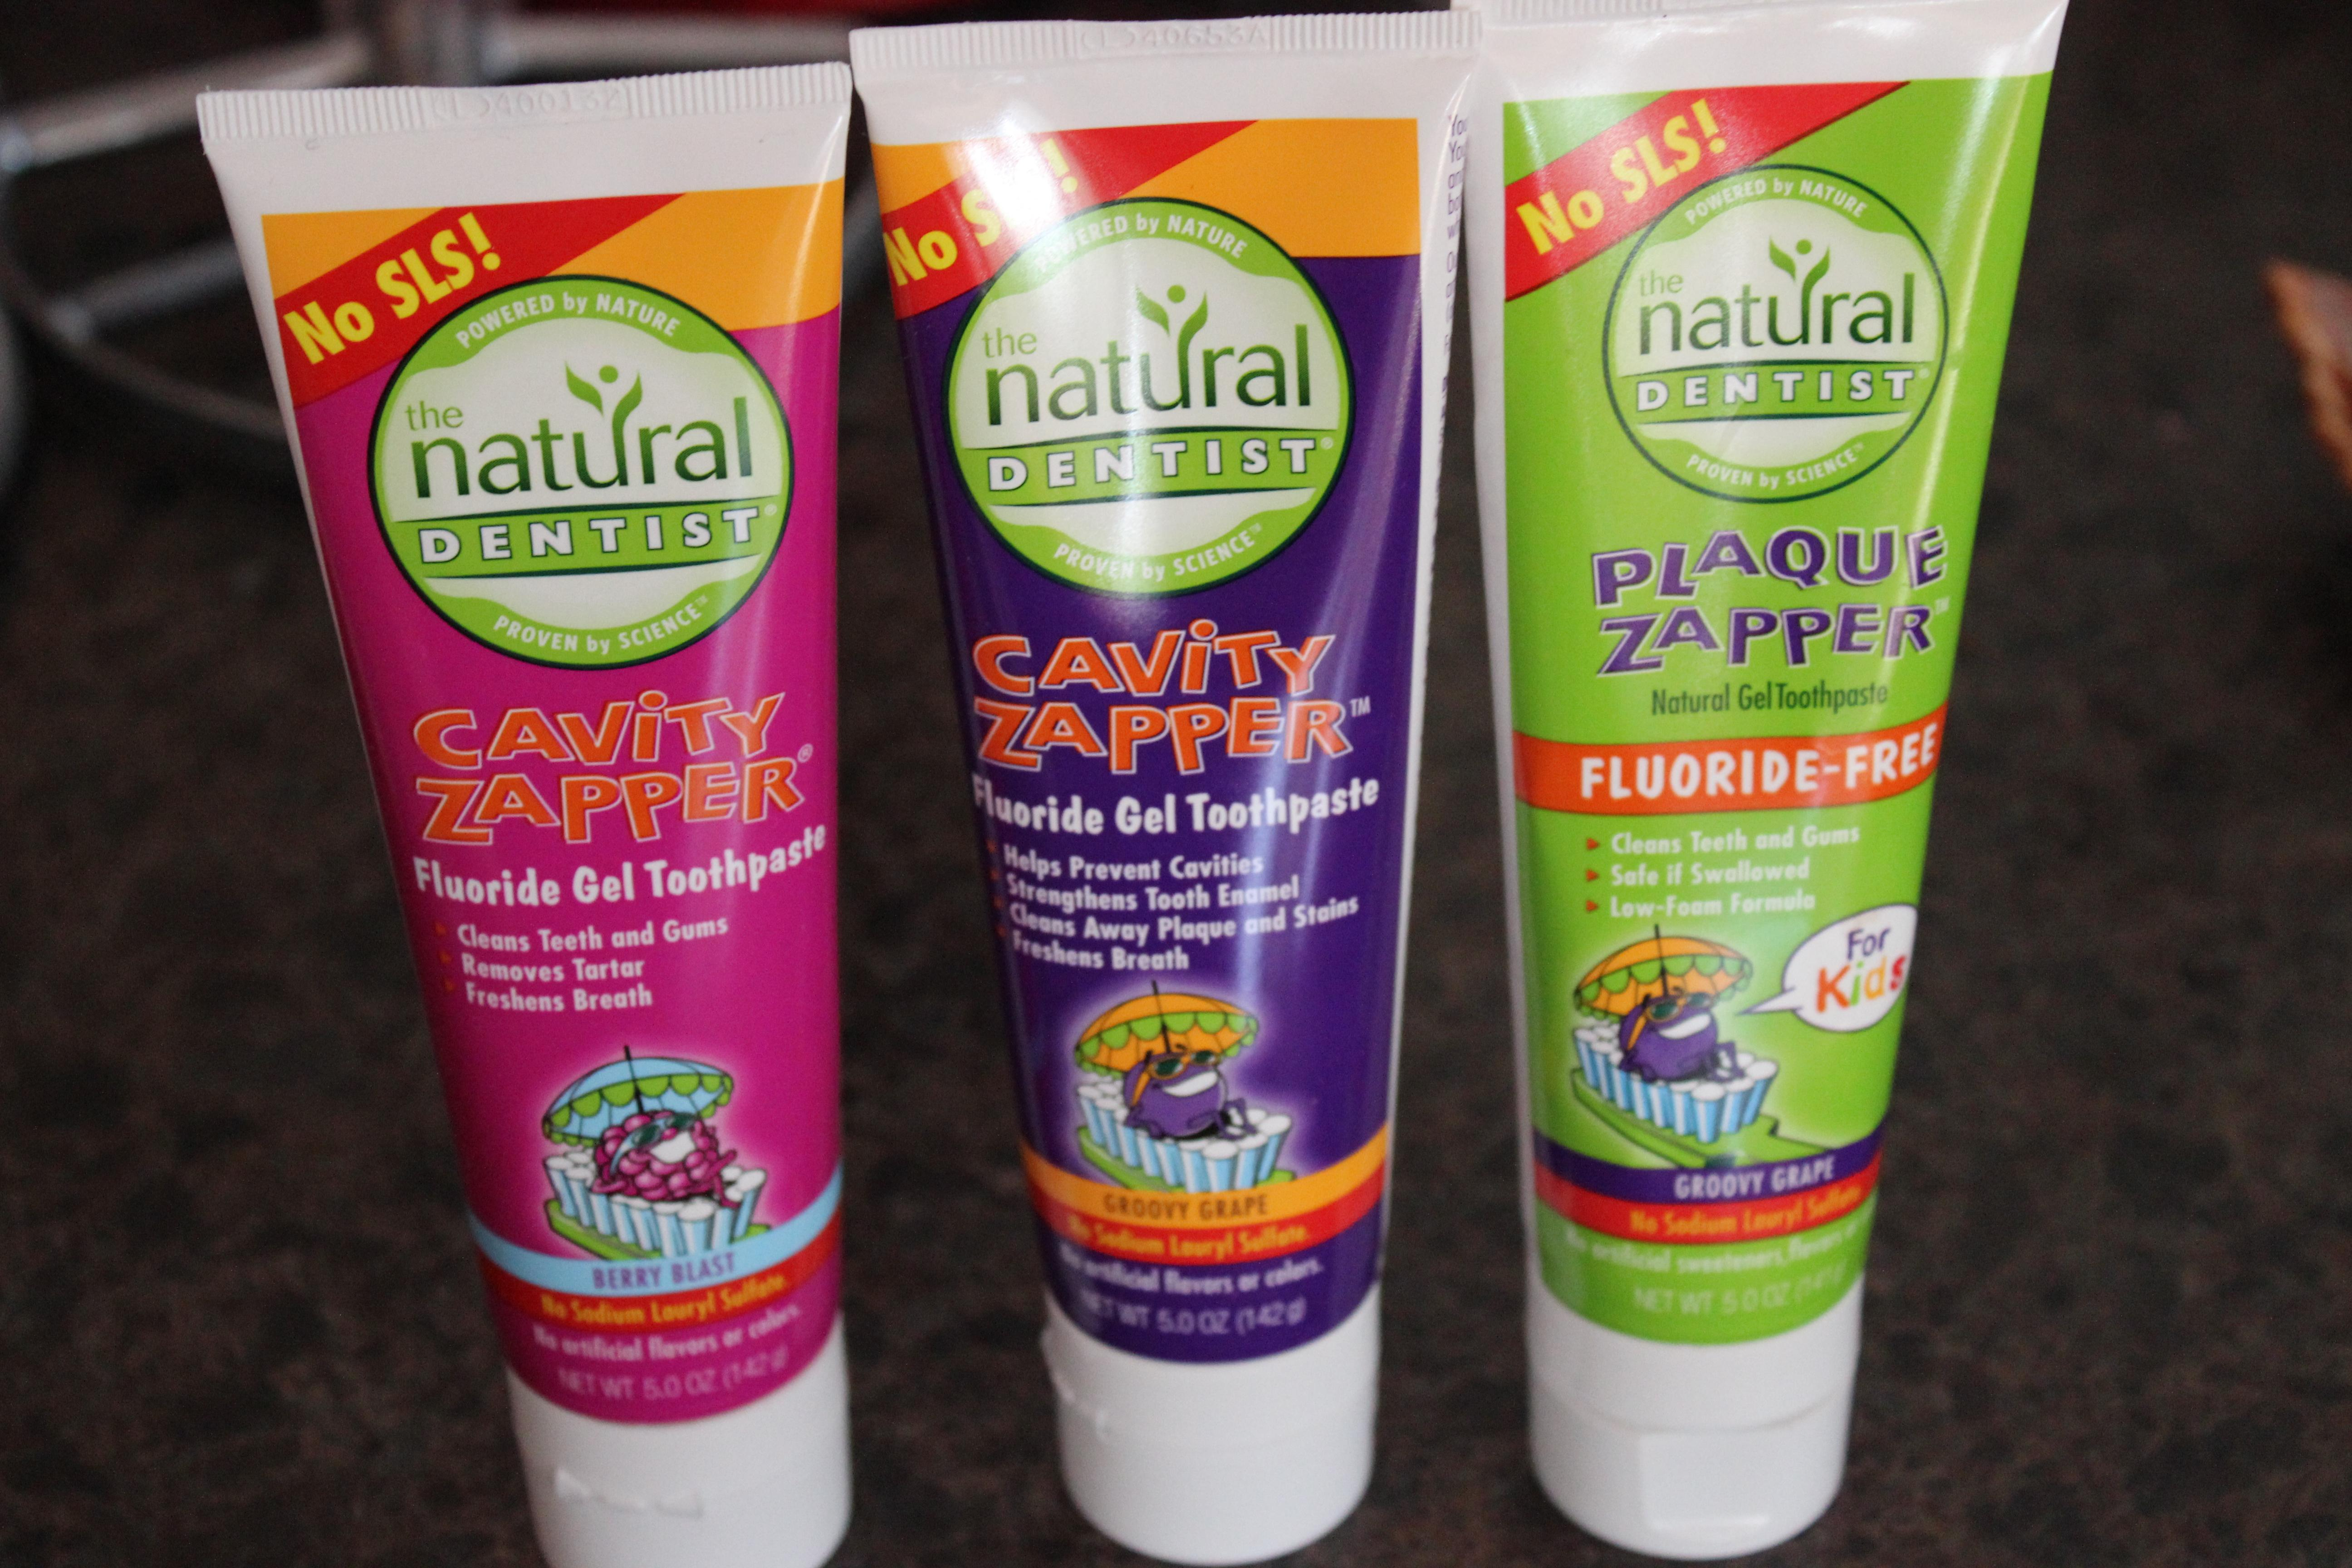toothpaste: (164, 65, 908, 1568), (1412, 0, 2109, 1568), (837, 16, 1500, 1568)
